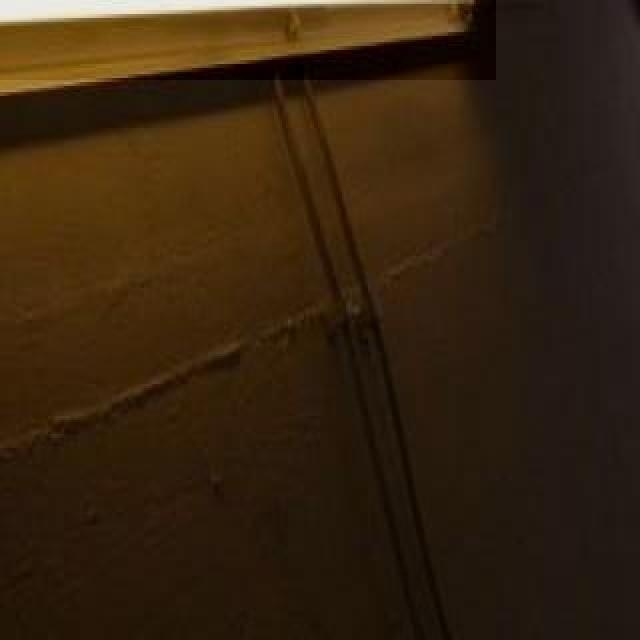fluorescent tube: (0, 0, 500, 62)
